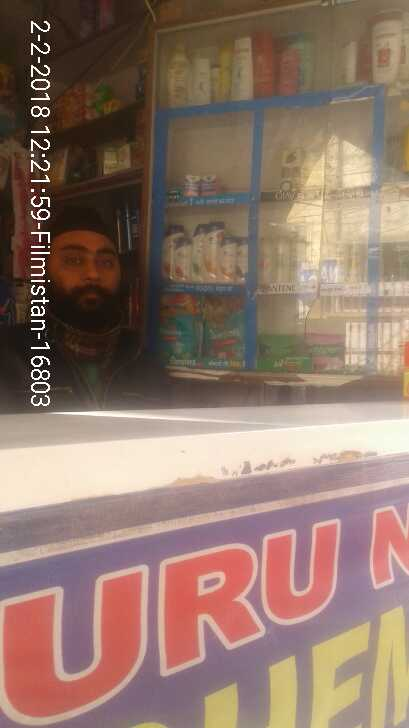vicks: (184, 172, 220, 189)
